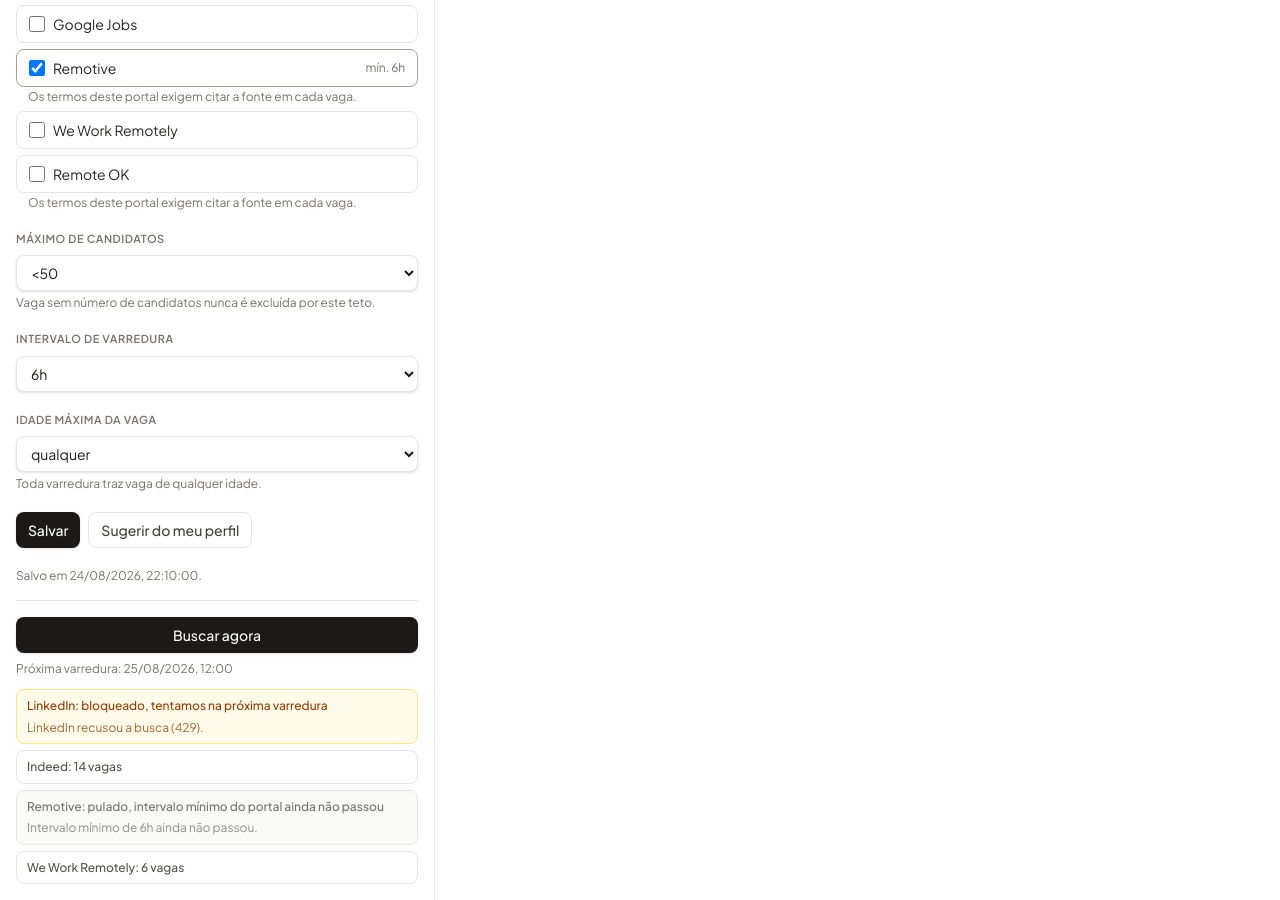
JobsShell › "Buscar agora" starts an Immediate Scan and switches to the running state
(page scrolled)
Click the button "Buscar agora": [217, 635] box [16, 617, 418, 653]
(page scrolled)
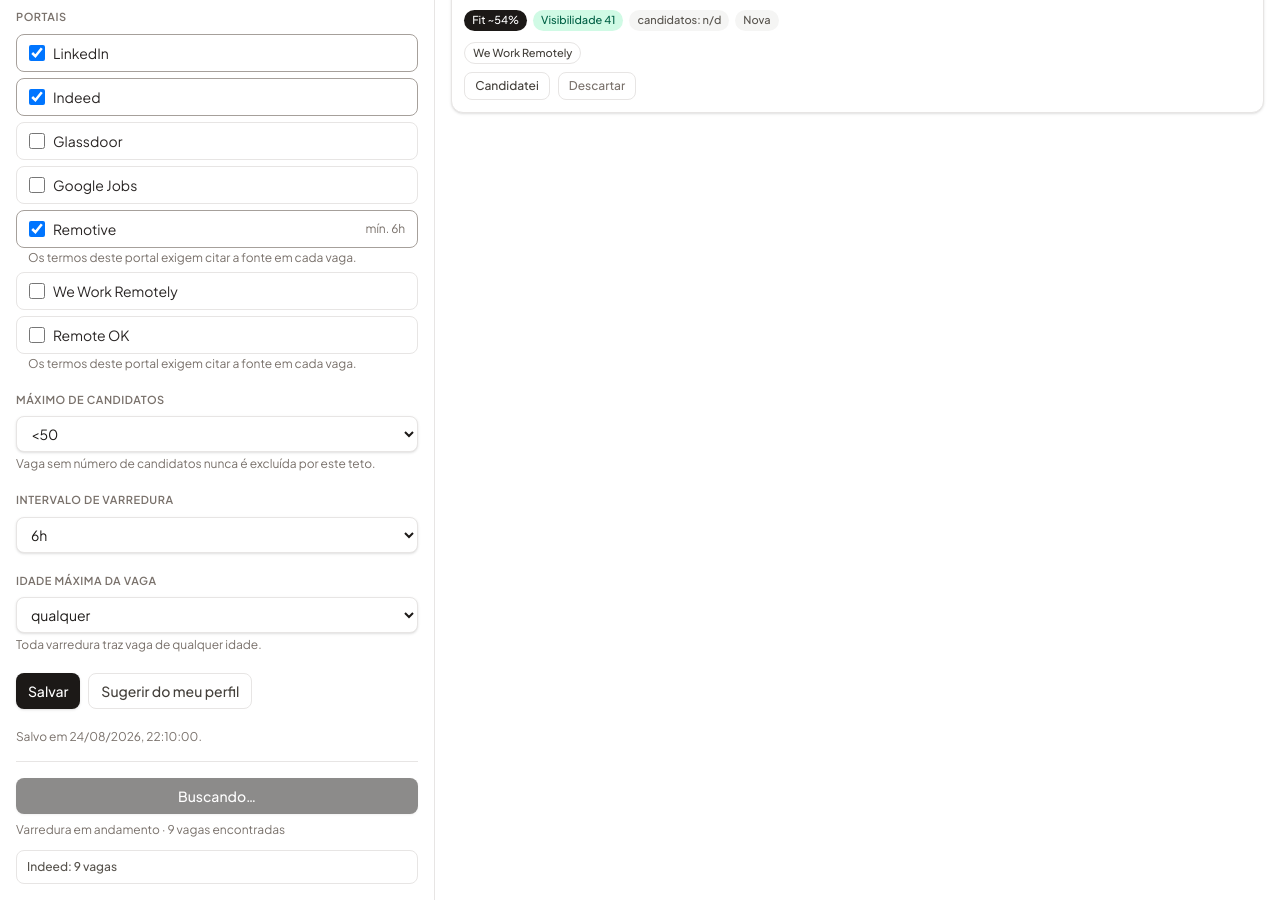
Expected: the button "Buscando…" is disabled, [16, 778, 418, 814]
